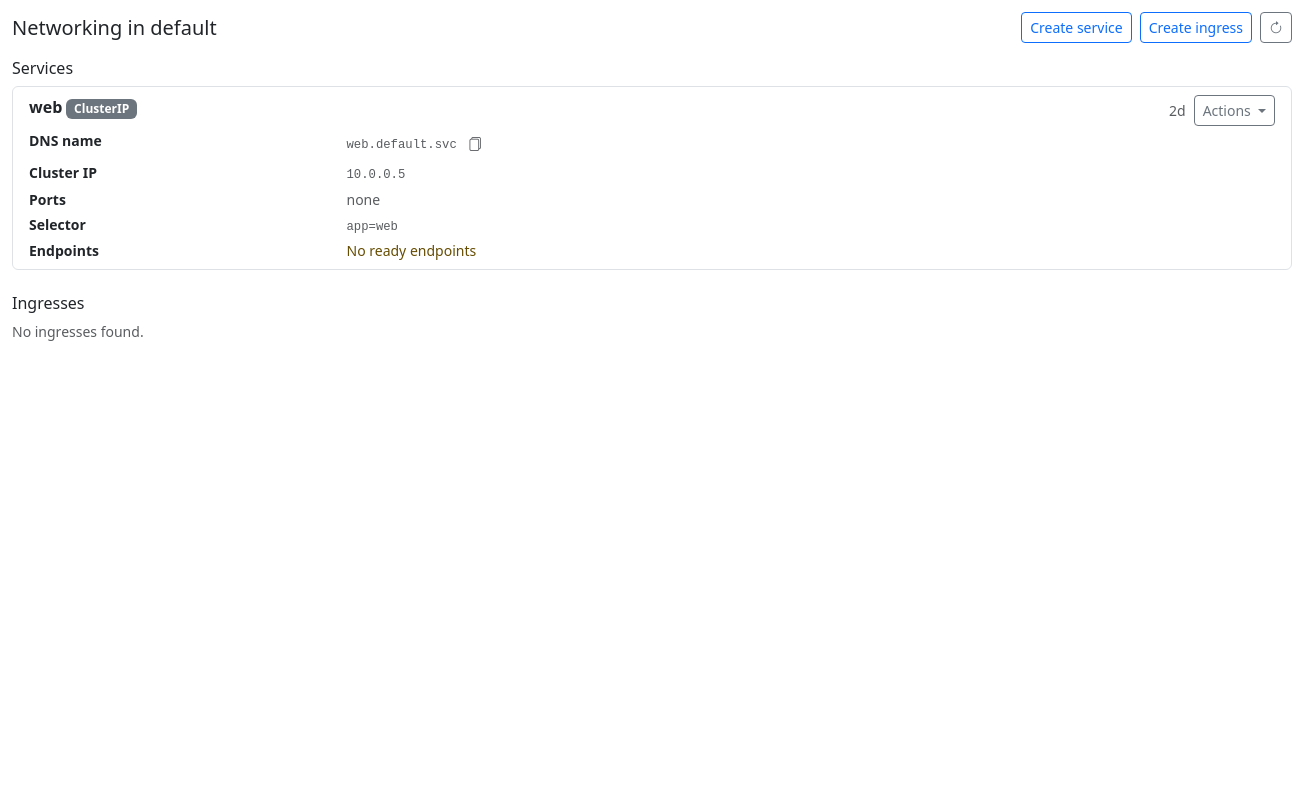
Test case: NetworkingView — create/edit ingress › opens the create-ingress panel from the Create ingress button
Click the button "Create ingress". click: (1196,28)
box: top-left (1140, 12), bottom-right (1252, 43)
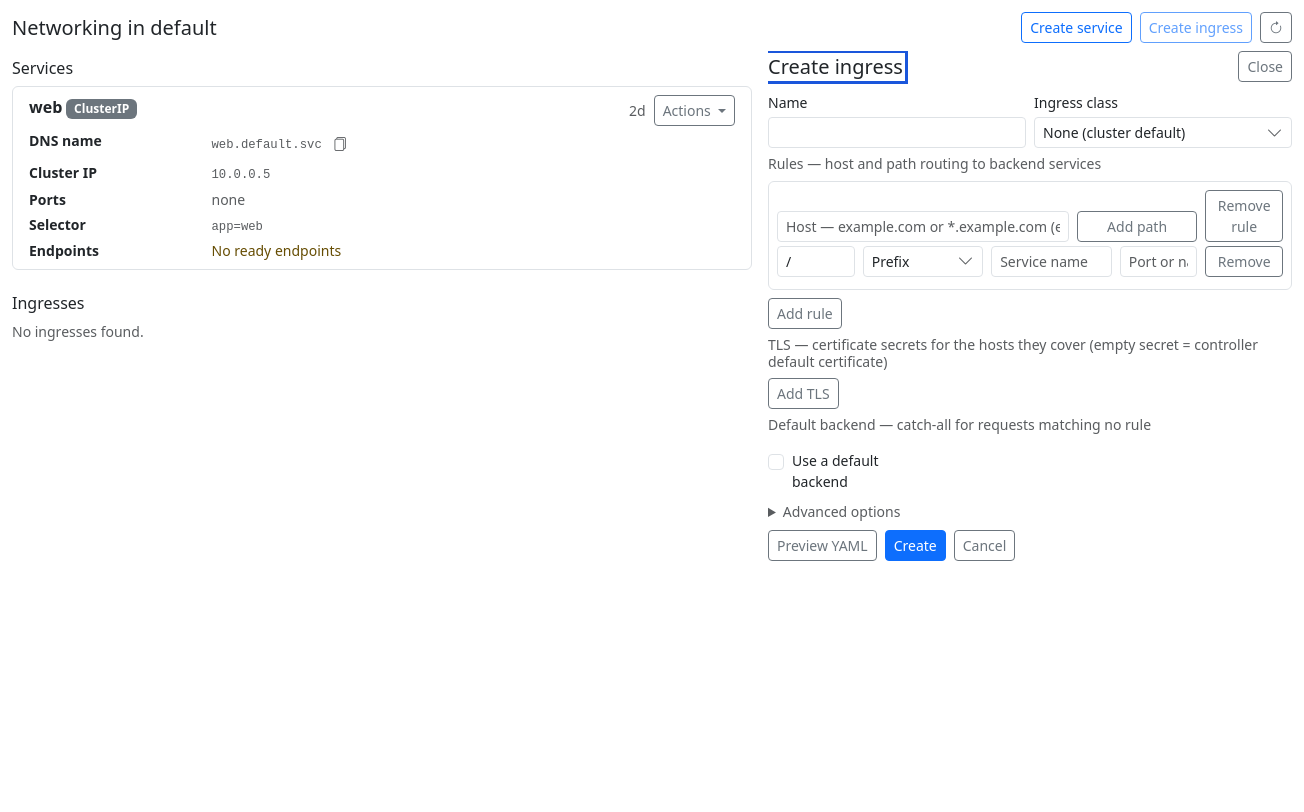
Result: the field with id "ing-create-name" is shown at top-left (768, 117), bottom-right (1026, 148)
